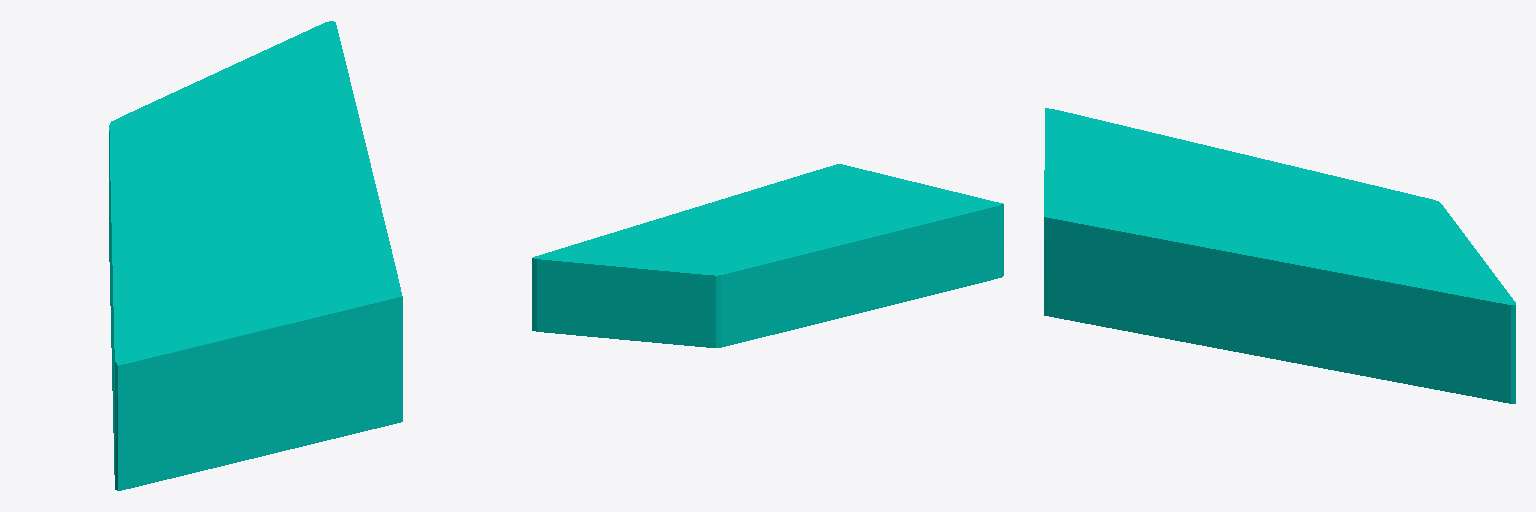
URDF robot description (convex_mesh):
<?xml version="1.0"?>
    <robot name="convex_mesh">
    <link name="base_link">
        <!-- Visual Representation -->
        <visual>
            <geometry>
                <mesh filename="polygon_2.obj" scale="1 1 1"/>
            </geometry>
            <material name="custom_color">
                <color rgba="0.02021839744032572 0.832619845547938 0.7781567509498505 1.0"/>
            </material>
        </visual>

        <!-- Collision Geometry -->
        <collision>
            <geometry>
                <mesh filename="polygon_2.obj" scale="1 1 1"/>
            </geometry>
        </collision>

        <!-- Inertial Properties -->
        <inertial>
            <mass value="1.0"/>
            <origin xyz="0.009733243018125856 -0.03385976219853881 0.015000000000000001"/>
            <inertia ixx="0.01" ixy="0.0" ixz="0.0"
                    iyy="0.01" iyz="0.0"
                    izz="0.01"/>
        </inertial>
    </link>
    </robot>

--- Facts derived from the render (not from the file) ---
The picture shows the robot from 3 angles, left to right: view 1: azimuth 30°, elevation 25°; view 2: azimuth 150°, elevation 25°; view 3: azimuth 270°, elevation 25°; orthographic projection.
Robot: convex_mesh — 1 links, 0 joints (none); root link base_link; default pose: all joints at 0.
Links seen in each view (by area): view 1: base_link; view 2: base_link; view 3: base_link.
Boxes of the visible links, bbox=[...] form: base_link: bbox=[109, 21, 402, 490]; base_link: bbox=[532, 164, 1003, 347]; base_link: bbox=[1044, 108, 1515, 403].
Bounding box of the posed robot: 0.1315 × 0.1327 × 0.0307 m (x, y, z).
Meshes: 1 distinct files referenced, 1 mesh visuals loaded (1 OBJ).